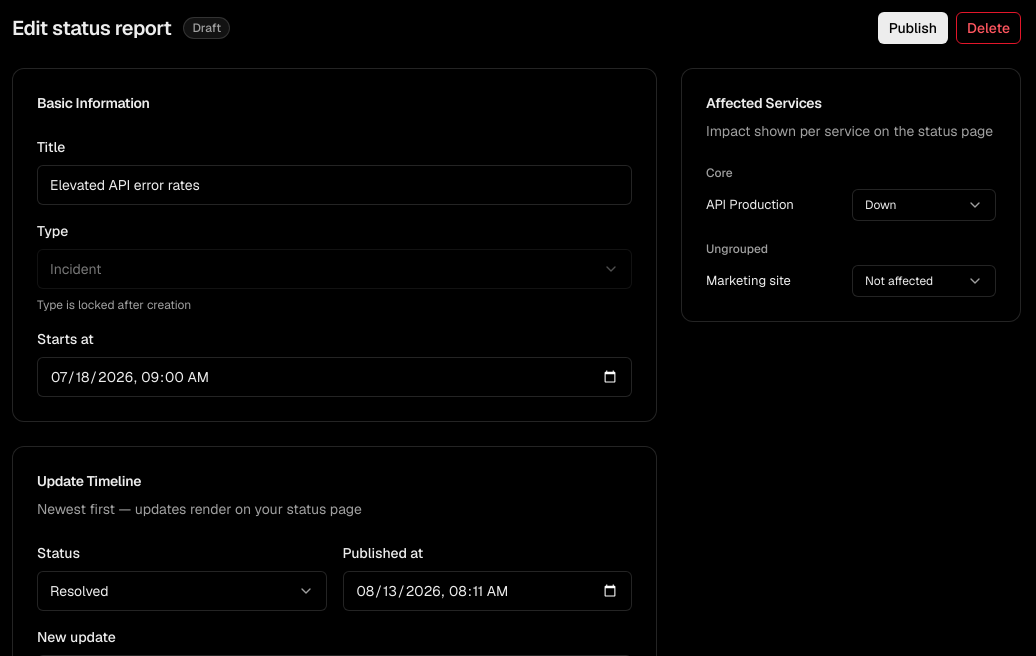
Test case: ReportEditor edit mode › warns when the composer update is dated before the report start
Replace the text in the field labelled "Published at" with "2026-07-01T08:00" at (487, 591), box [342,571,632,611]
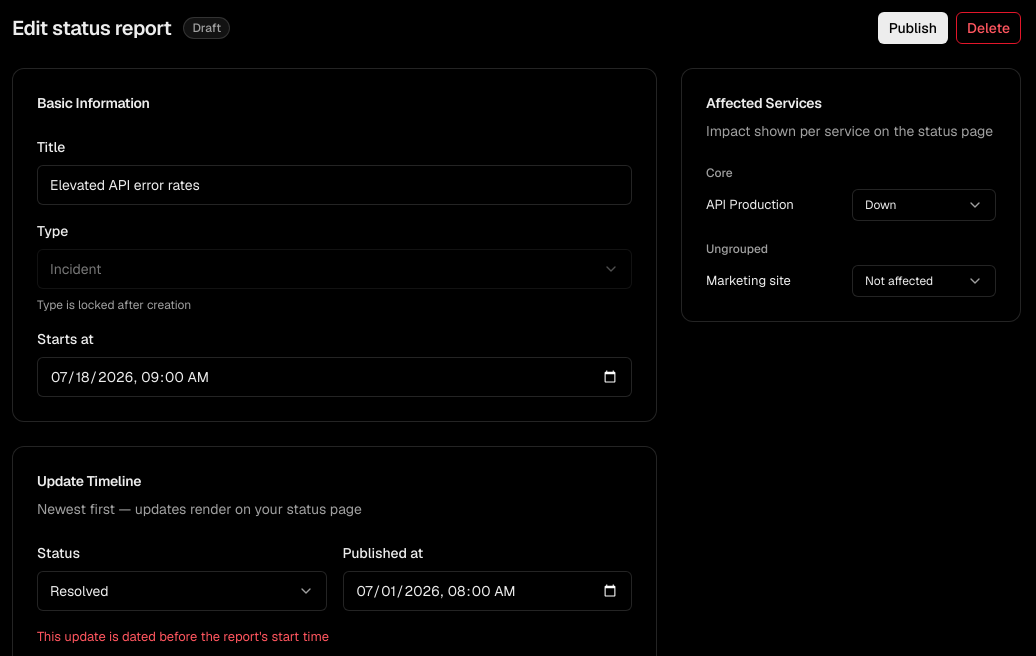
Check: the text "This update is dated before the report's start time" is shown, box [37,628,329,645]
Replace the text in the field labelled "Published at" with "2026-07-19T08:00" at (487, 591), box [342,571,632,611]
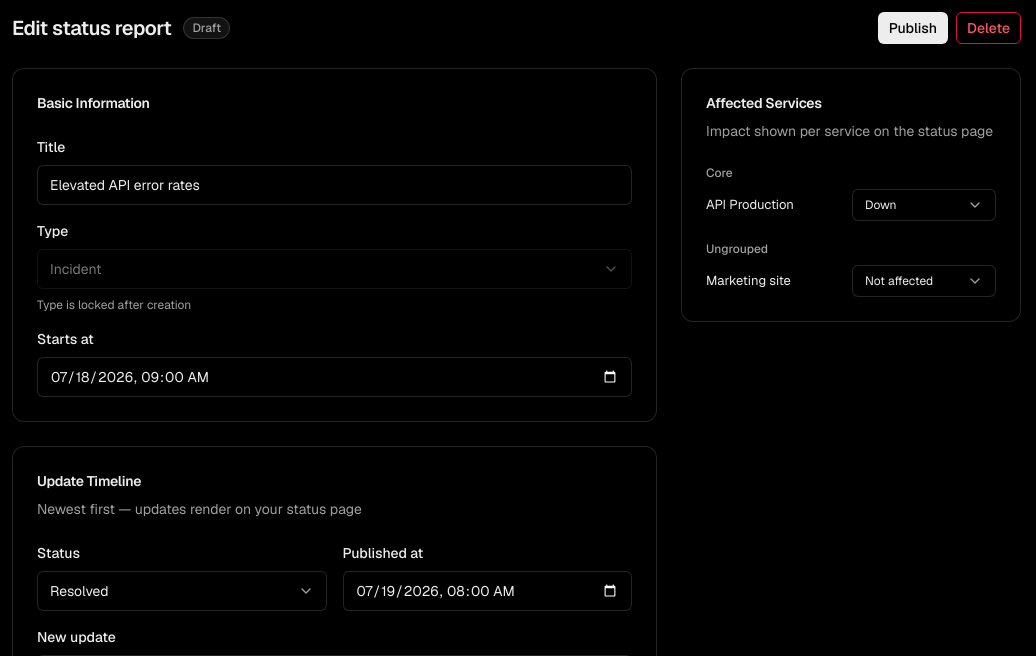
Check: the text "This update is dated before the report's start time" is gone
